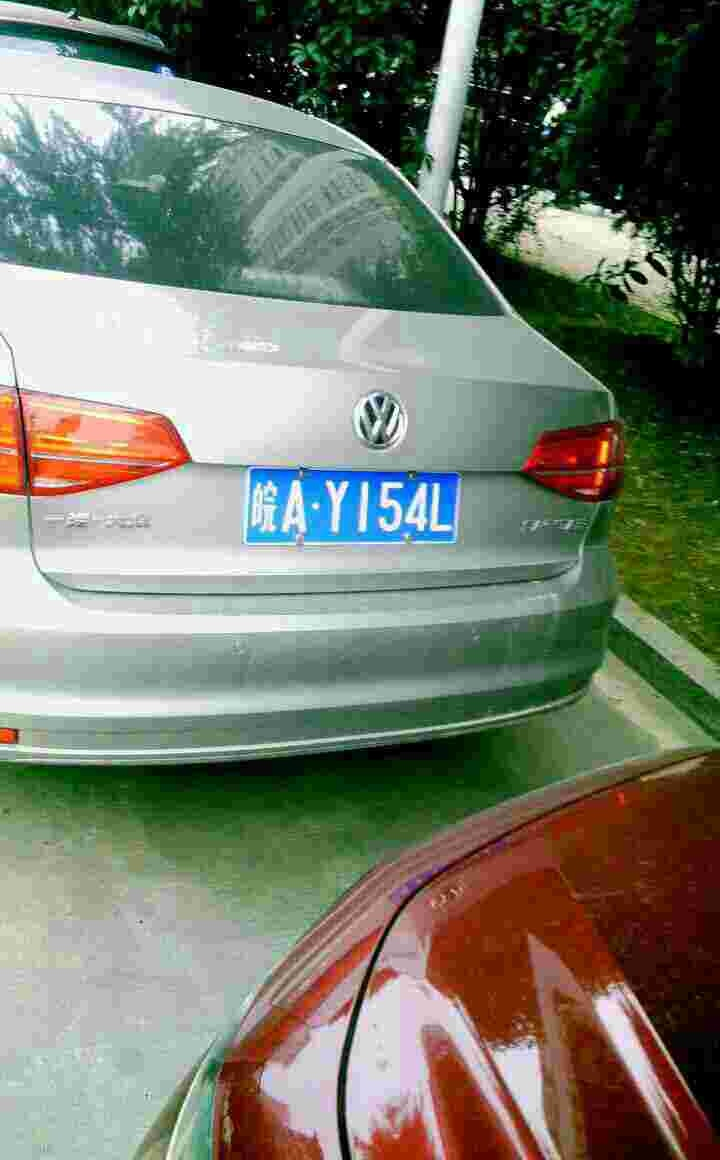license_plate: (248, 476, 456, 542)
